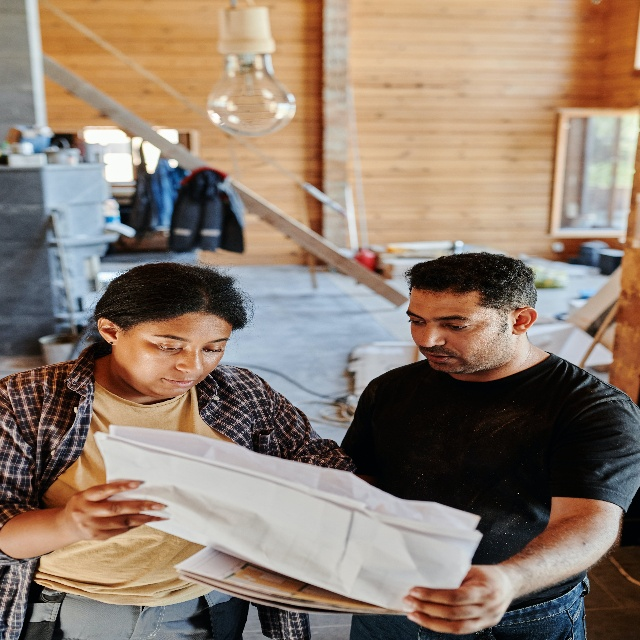Sin_guantes: (403, 566, 511, 635), (66, 481, 167, 545)
